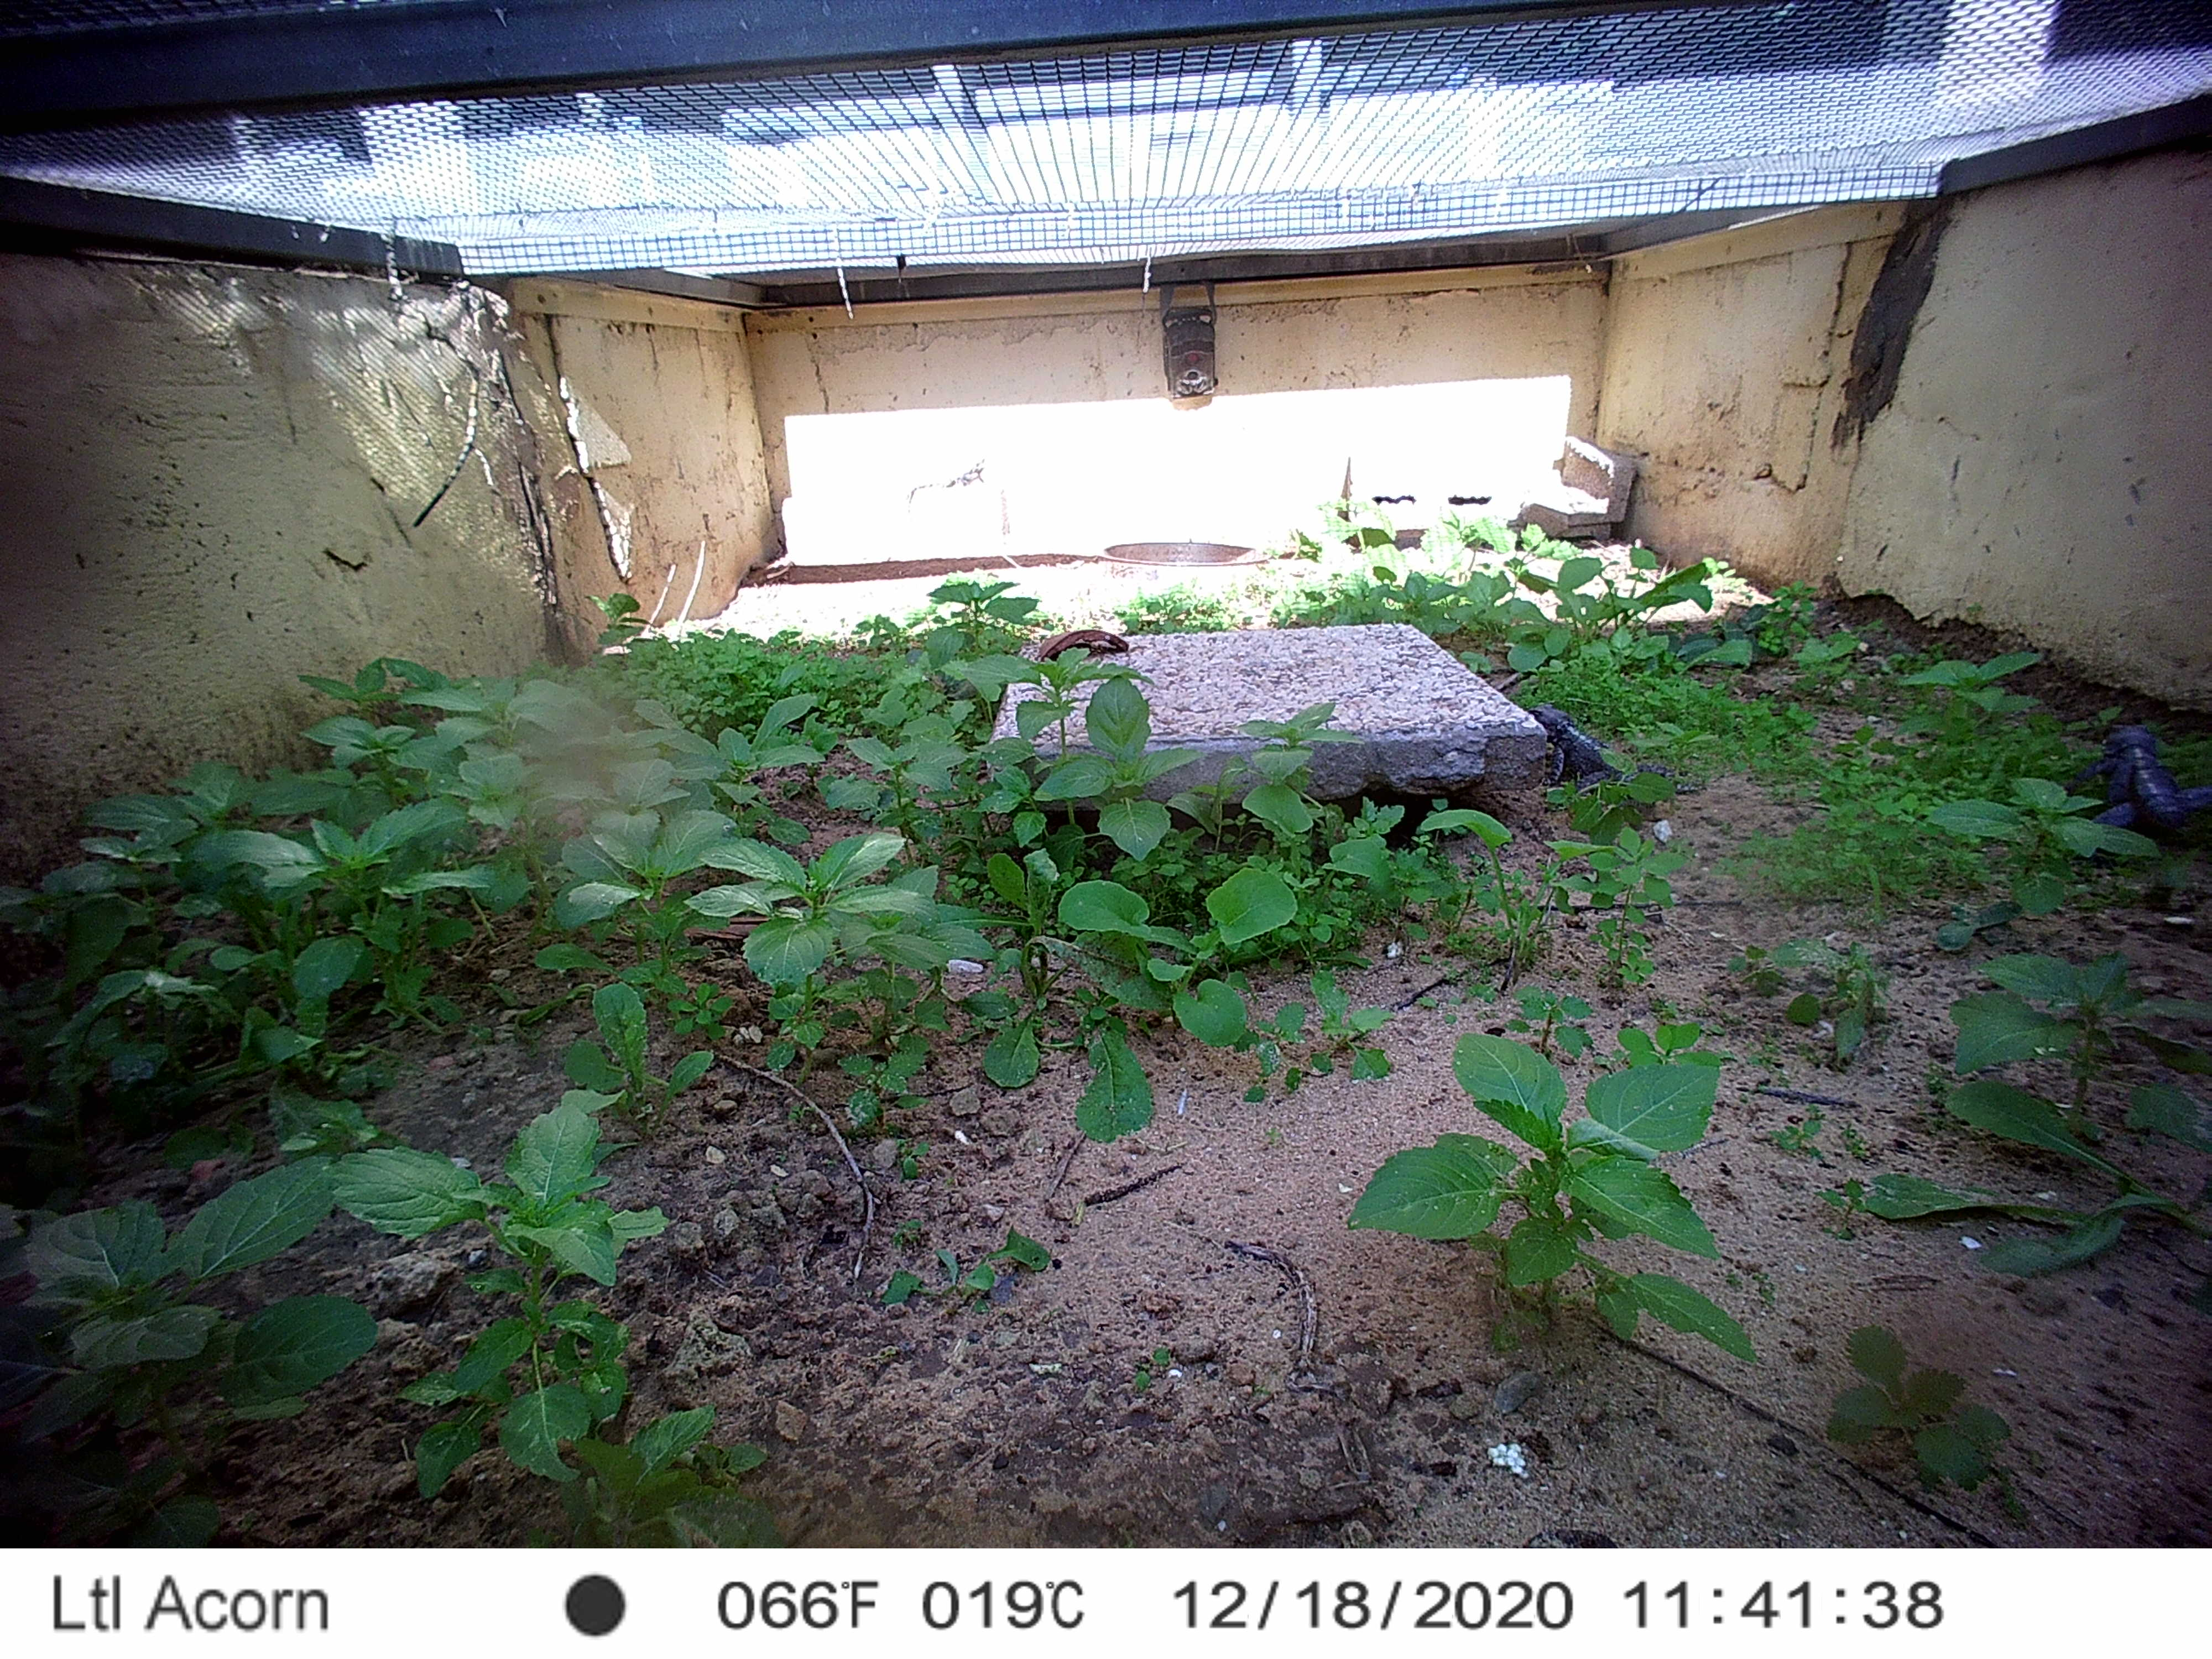lizard: (2076, 727, 2212, 849), (1529, 702, 1660, 793), (892, 453, 995, 516)
